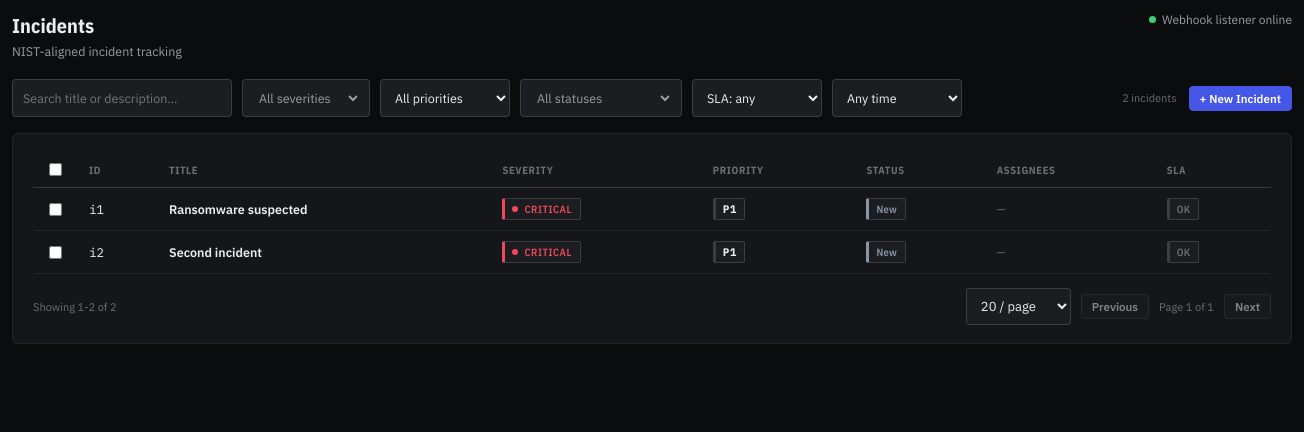
Test: IncidentsListPage › bulk phase-change › the header checkbox selects and deselects every row on the page
Expected: the text "Ransomware suspected" is shown, [157,188,490,230]
Click the checkbox named "Select all incidents on this page".
click(56, 170)  # box [49,163,62,176]
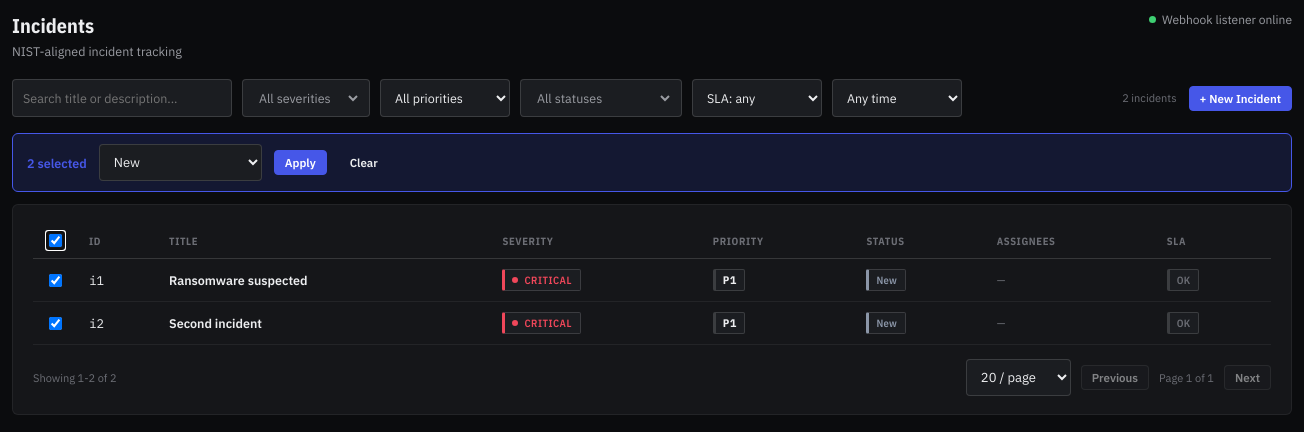
Expected: the text "2 selected" is shown, [27,154,87,170]
Click the checkbox named "Select all incidents on this page".
click(56, 240)  # box [49,234,62,247]
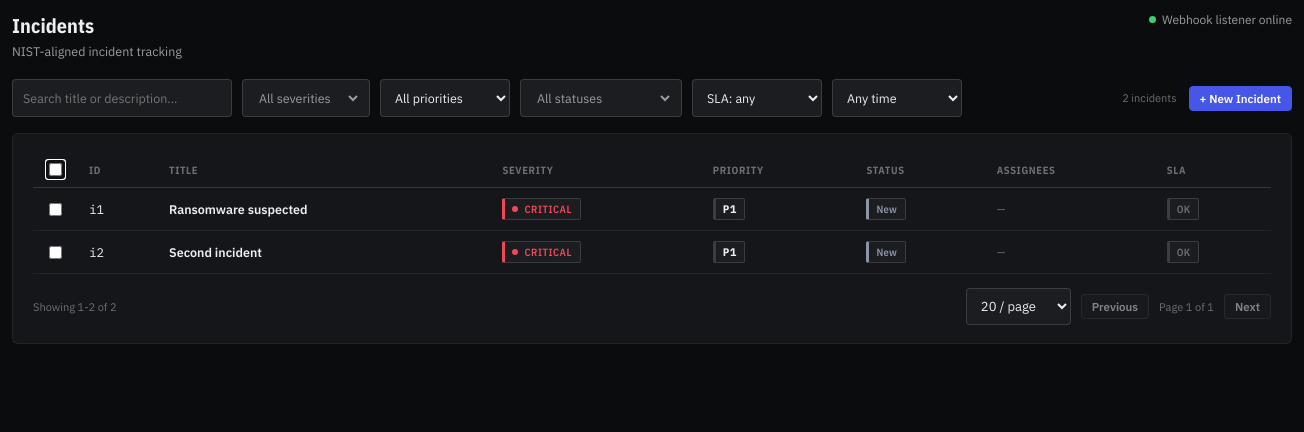
Expected: the text "selected" is gone
